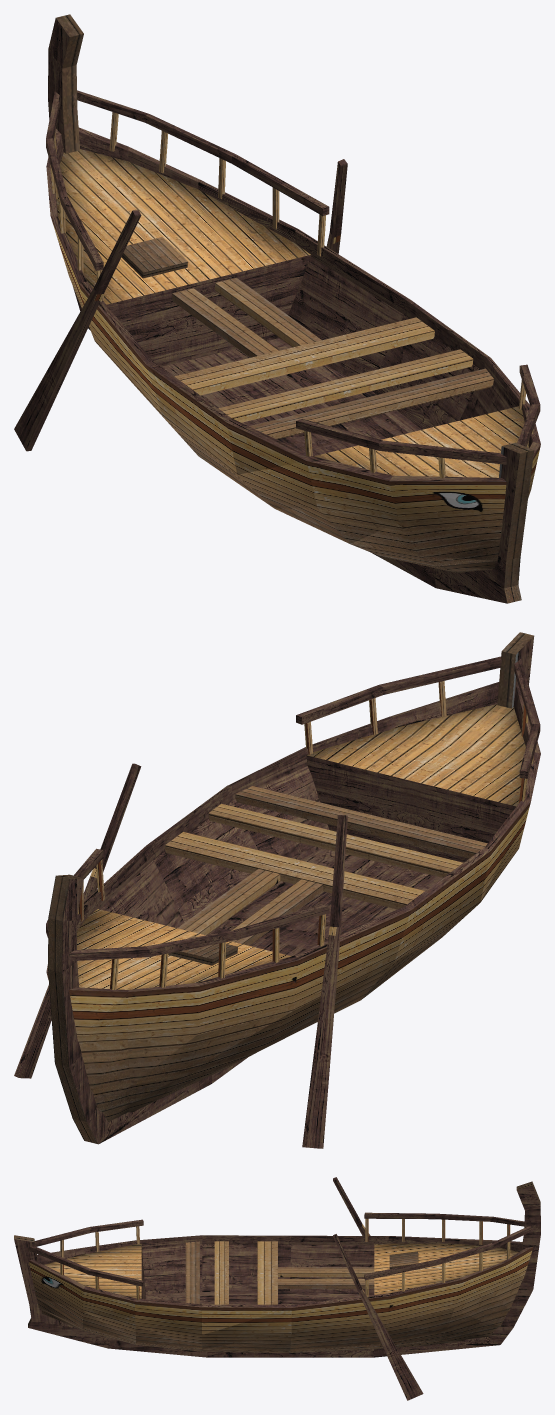
Rendered from hele_kyrenia.dae.
The picture shows the model from 3 angles, top to bottom: view 1: azimuth 30°, elevation 25°; view 2: azimuth 150°, elevation 25°; view 3: azimuth 270°, elevation 25°; orthographic projection. The views are drawn at different scales.
Visible parts, largest first — view 1: Plane; view 2: Plane; view 3: Plane.
Boxes of the visible parts, box(x1,y1,x2,y2) form: Plane: box(14, 14, 540, 603); Plane: box(14, 632, 540, 1148); Plane: box(14, 1177, 540, 1400).
Size of the model in its own units: 8.85 by 9.05 by 24.34.
